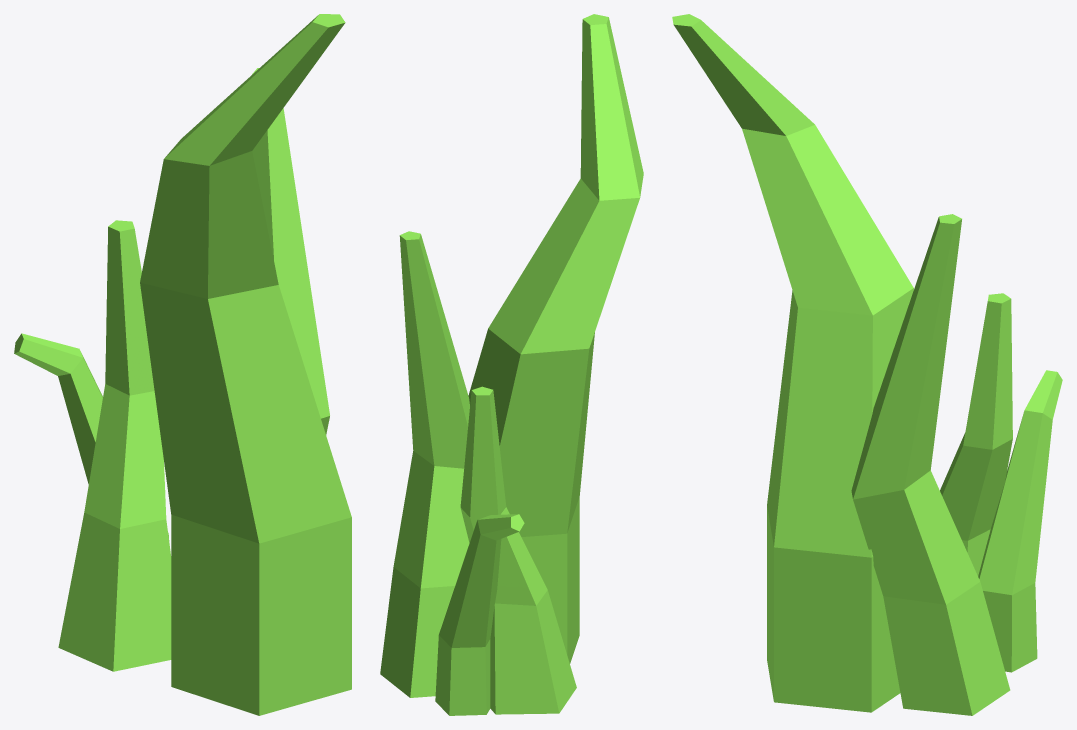
File: grassPack.fbx
3 renders of one model, left to right at view 1: azimuth 30°, elevation 25°; view 2: azimuth 150°, elevation 25°; view 3: azimuth 270°, elevation 25°, orthographic. The views are drawn at different scales.
Parts seen in each view (by area): view 1: Grass Pack; view 2: Grass Pack; view 3: Grass Pack.
Part boxes in pixels (bbox=[...]): Grass Pack: bbox=[14, 14, 351, 715]; Grass Pack: bbox=[380, 14, 643, 715]; Grass Pack: bbox=[672, 14, 1062, 715].
Size of the model in its own units: 11.54 by 36.11 by 19.65.
